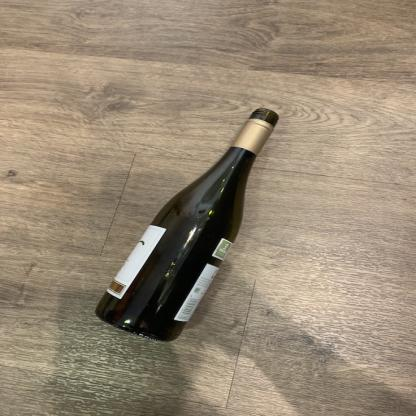trash: (90, 104, 280, 351)
